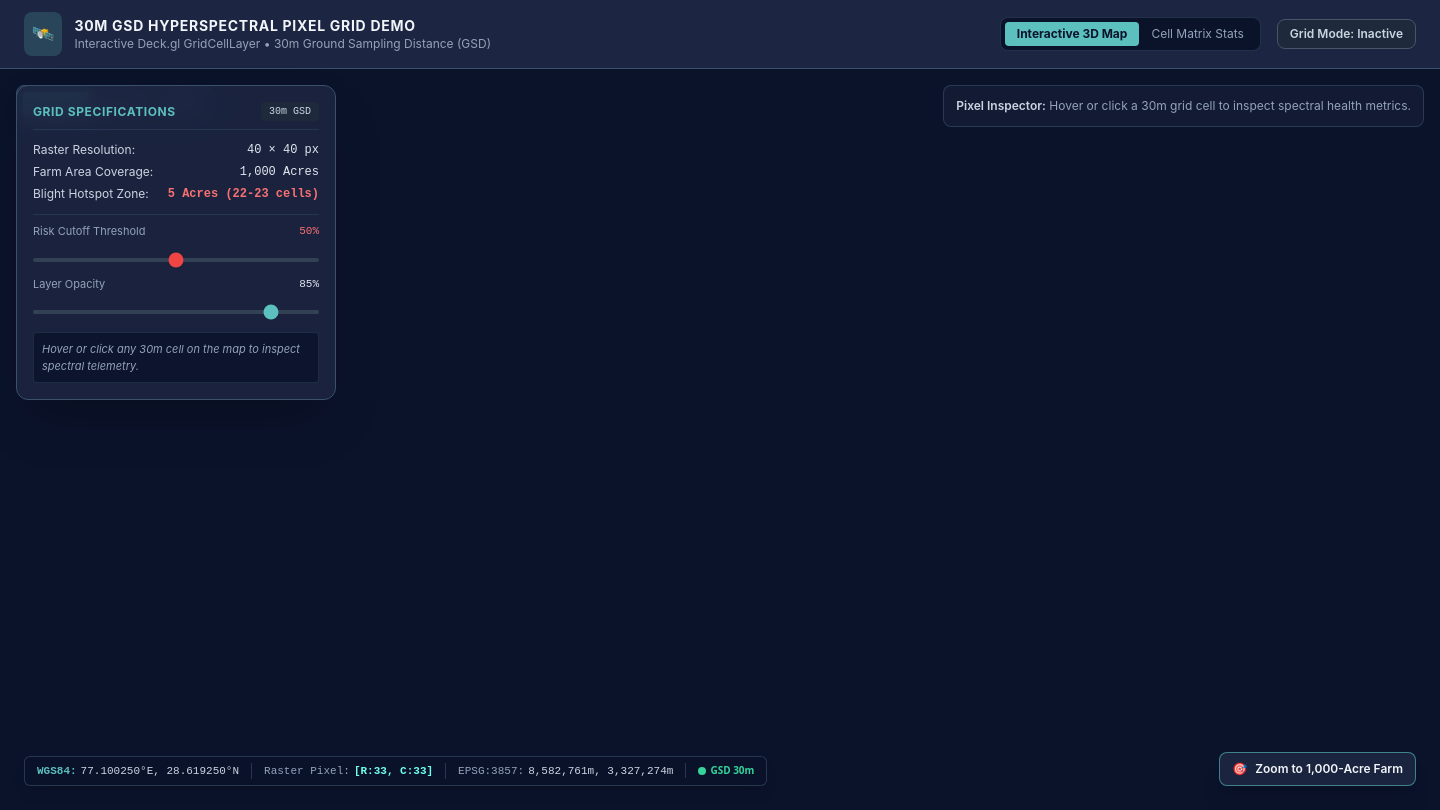
PixelGridDemo Component › toggles between 3D Map viewport and matrix statistics
Note: Switch to matrix stats tab
Click the button "Cell Matrix Stats".
click(1198, 34)  # box x1=1139 y1=22 x2=1256 y2=46
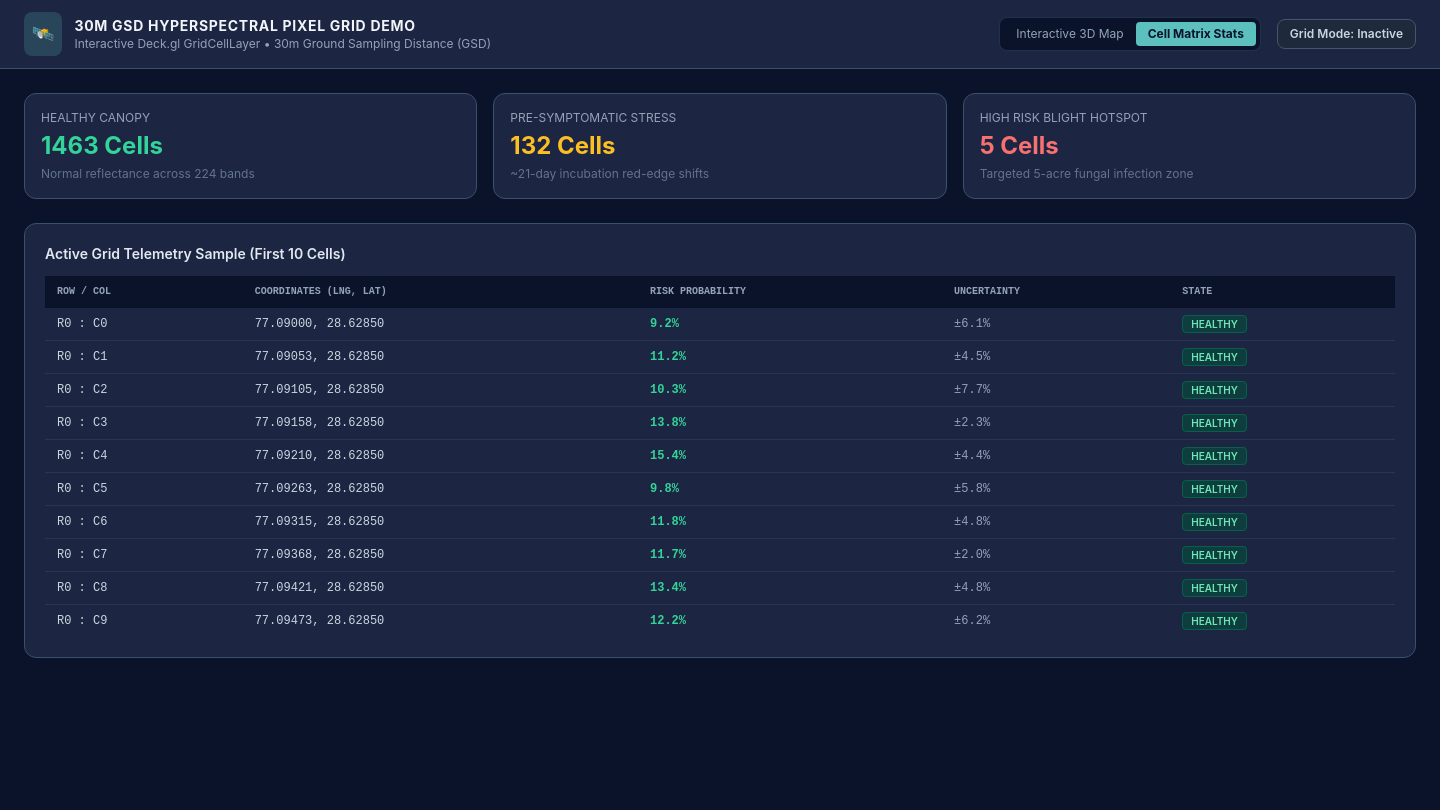
Now the text "Healthy Canopy" is shown, box x1=41 y1=110 x2=150 y2=125
Now the text "Pre-Symptomatic Stress" is shown, box x1=510 y1=110 x2=676 y2=125
Now the text "High Risk Blight Hotspot" is shown, box x1=980 y1=110 x2=1147 y2=125
